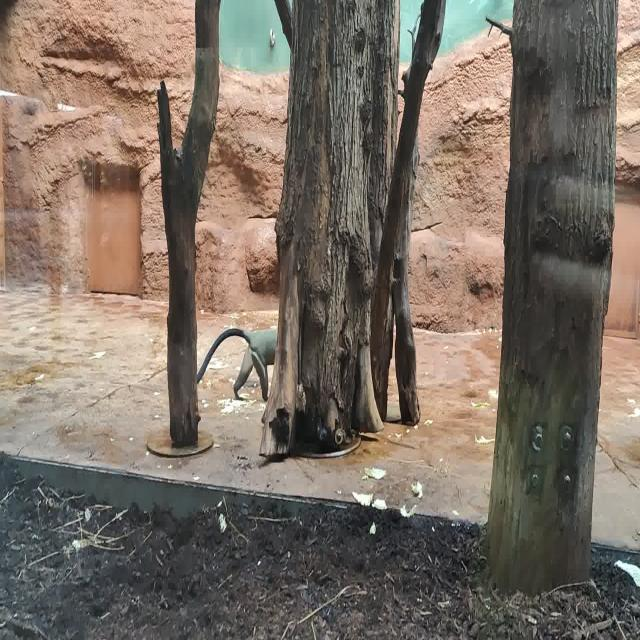monkey: (197, 328, 278, 401)
